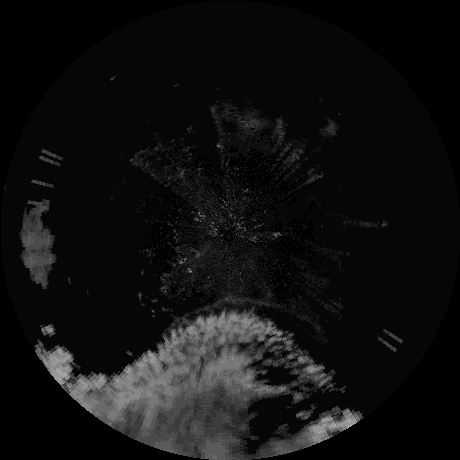frontgust: (172, 296, 300, 318)
